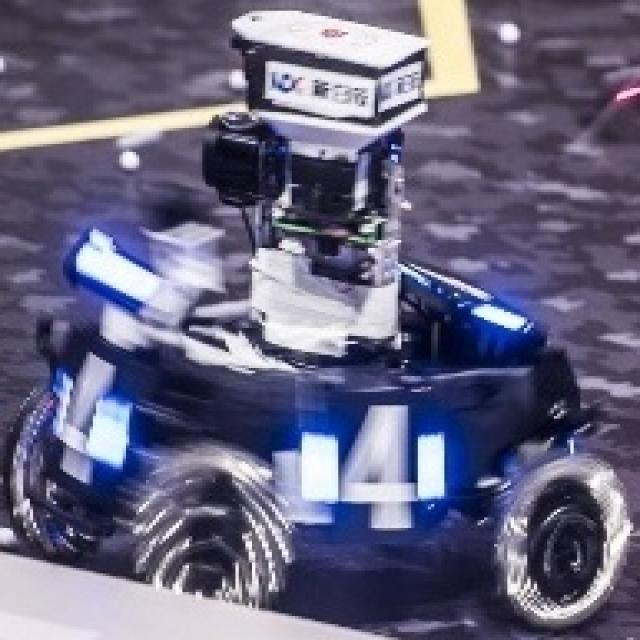B4: (298, 400, 444, 531)
